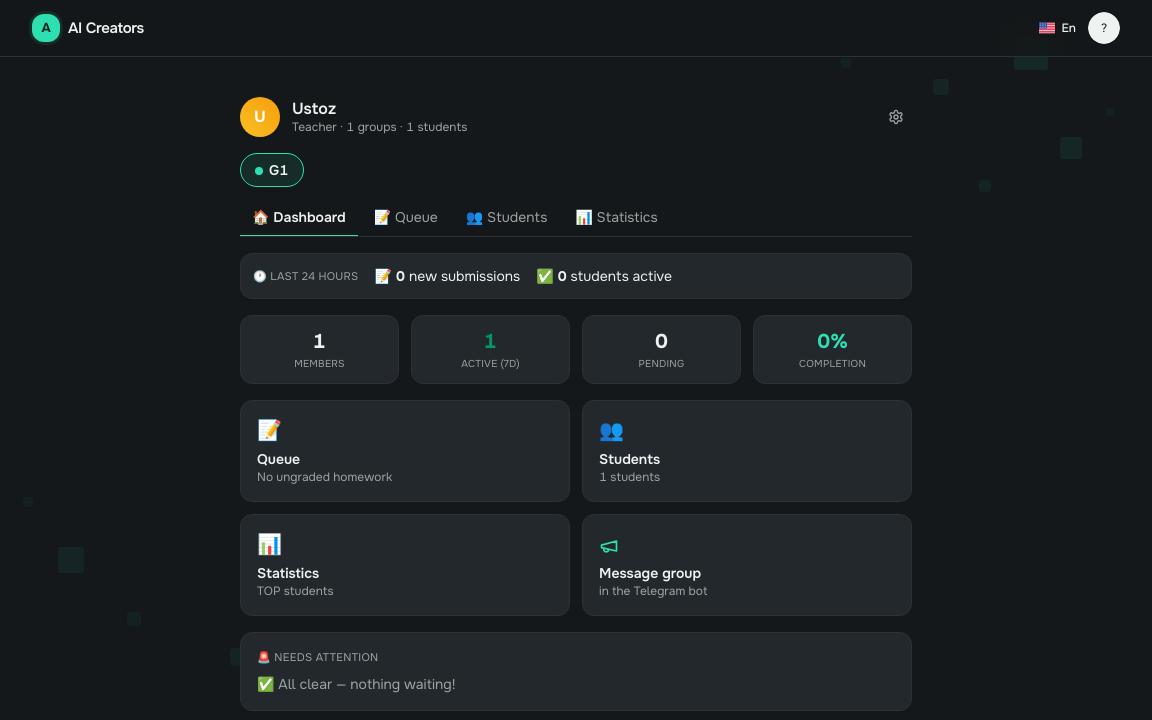
Test: TeacherProfile grading queue — capped page indicator › queue load fails → error + retry, never the '🎉 no ungraded homework' state
Click the tab "📝 Queue" at coordinates (406, 222), box left=362, top=207, right=450, bottom=237
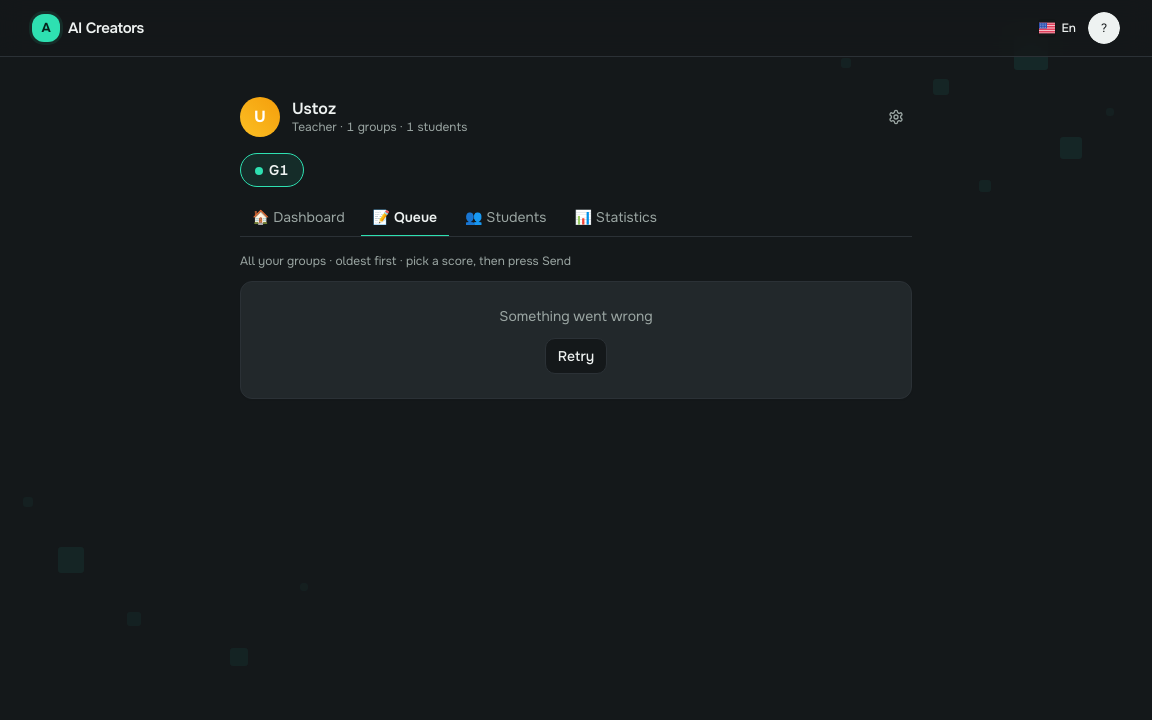
Result: the button "Retry" is shown at left=545, top=338, right=607, bottom=374
Result: the text "Something went wrong" is shown at left=499, top=307, right=653, bottom=325
Result: the button "No ungraded homework" is gone
